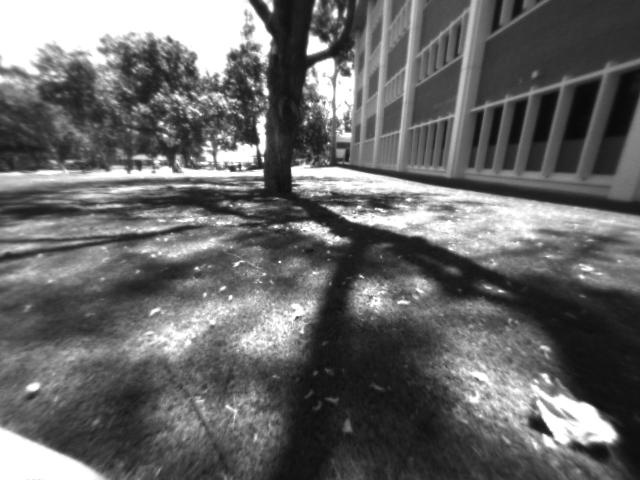dogtoy: (298, 235, 321, 259)
